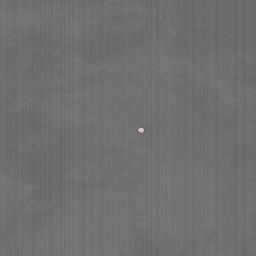Target: (137, 126, 146, 134)
